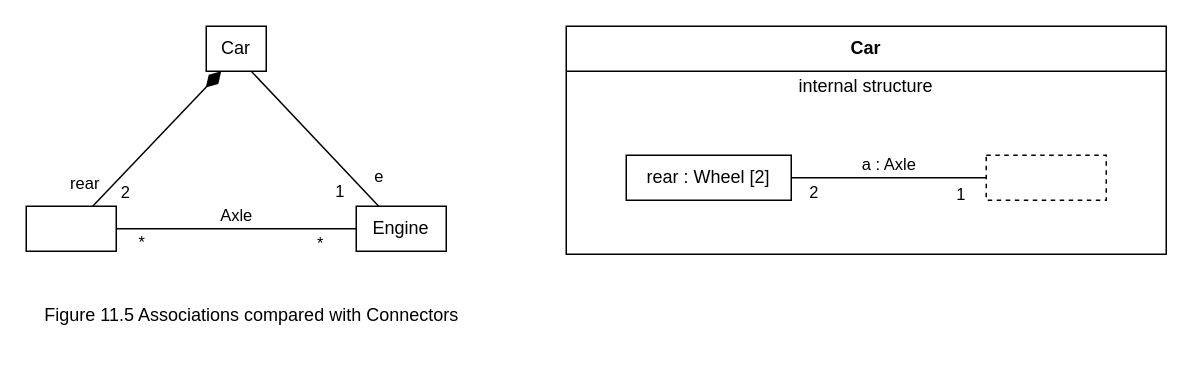
This 1193x365 diagram has some shape labels left out. Each missing label, with the box of its shape:
e : Engine: (985, 154, 1106, 200)
Wheel: (25, 205, 116, 251)
